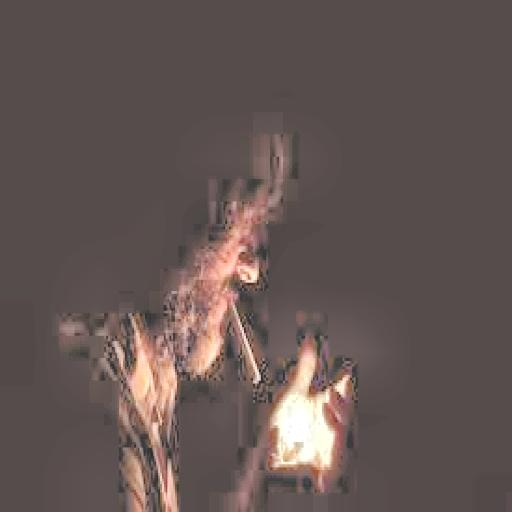fire: (278, 400, 314, 448)
